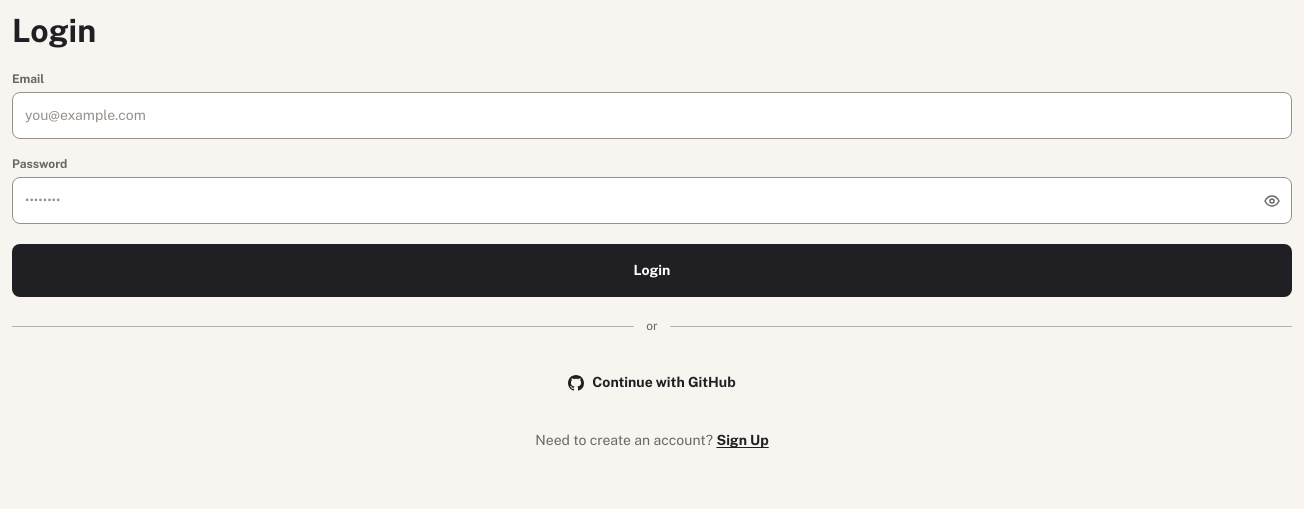
Test case: LoginForm › validation › shows error for empty email on submit
Click the button "Login" at [652, 271], box [12,244,1292,297]
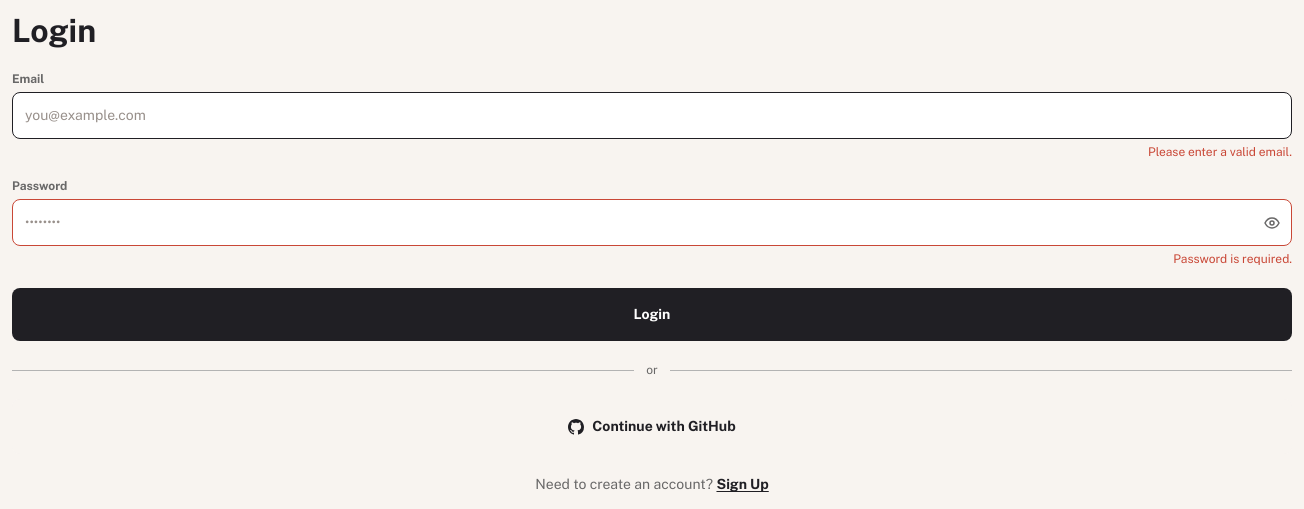
Result: the text "Please enter a valid email." is shown at [1148,145,1292,159]
